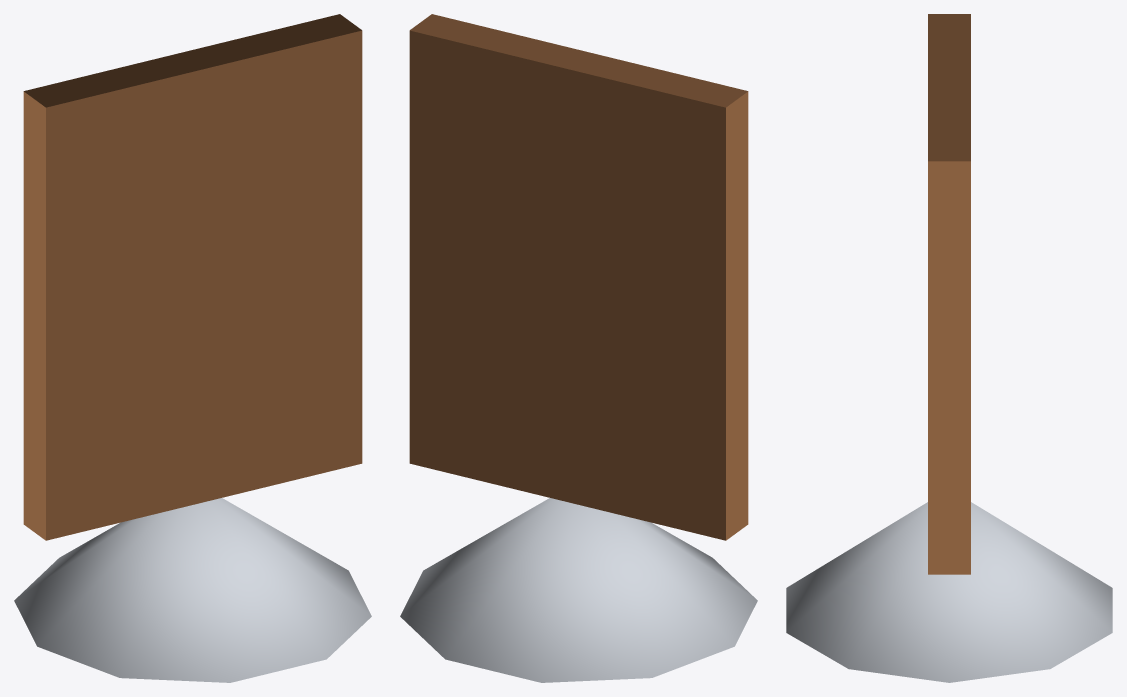
Rendered from escudo.obj.
3 renders of one model, left to right at view 1: azimuth 30°, elevation 25°; view 2: azimuth 150°, elevation 25°; view 3: azimuth 270°, elevation 25°, orthographic. The views are drawn at different scales.
Parts seen in each view (by area): view 1: tabua, umba; view 2: tabua, umba; view 3: umba, tabua.
Part boxes in pixels (box(x1,y1,x2,y2)): tabua: box(23, 14, 362, 540); umba: box(14, 498, 371, 682); tabua: box(409, 14, 748, 540); umba: box(400, 498, 757, 682); umba: box(786, 502, 1112, 682); tabua: box(928, 14, 970, 574).
Bounding box in the file's own units: 0.65 × 1.07 × 0.6087.
